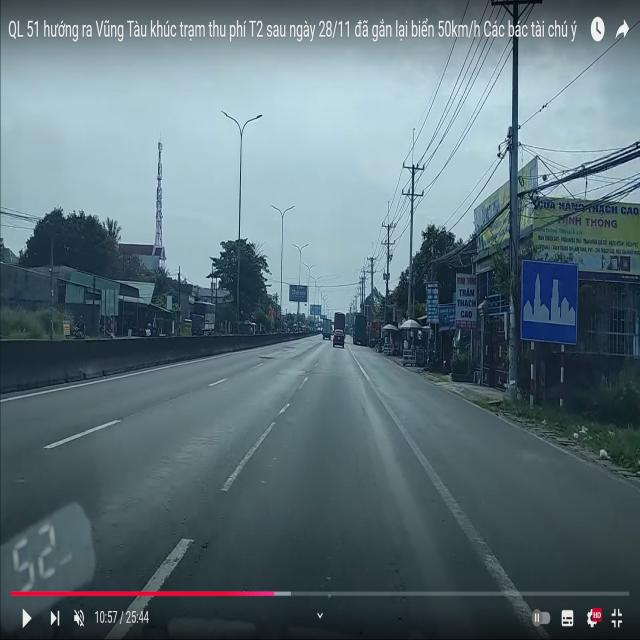Bien hieu lenh bat dau khu dong dan cu: (518, 256, 582, 350)
